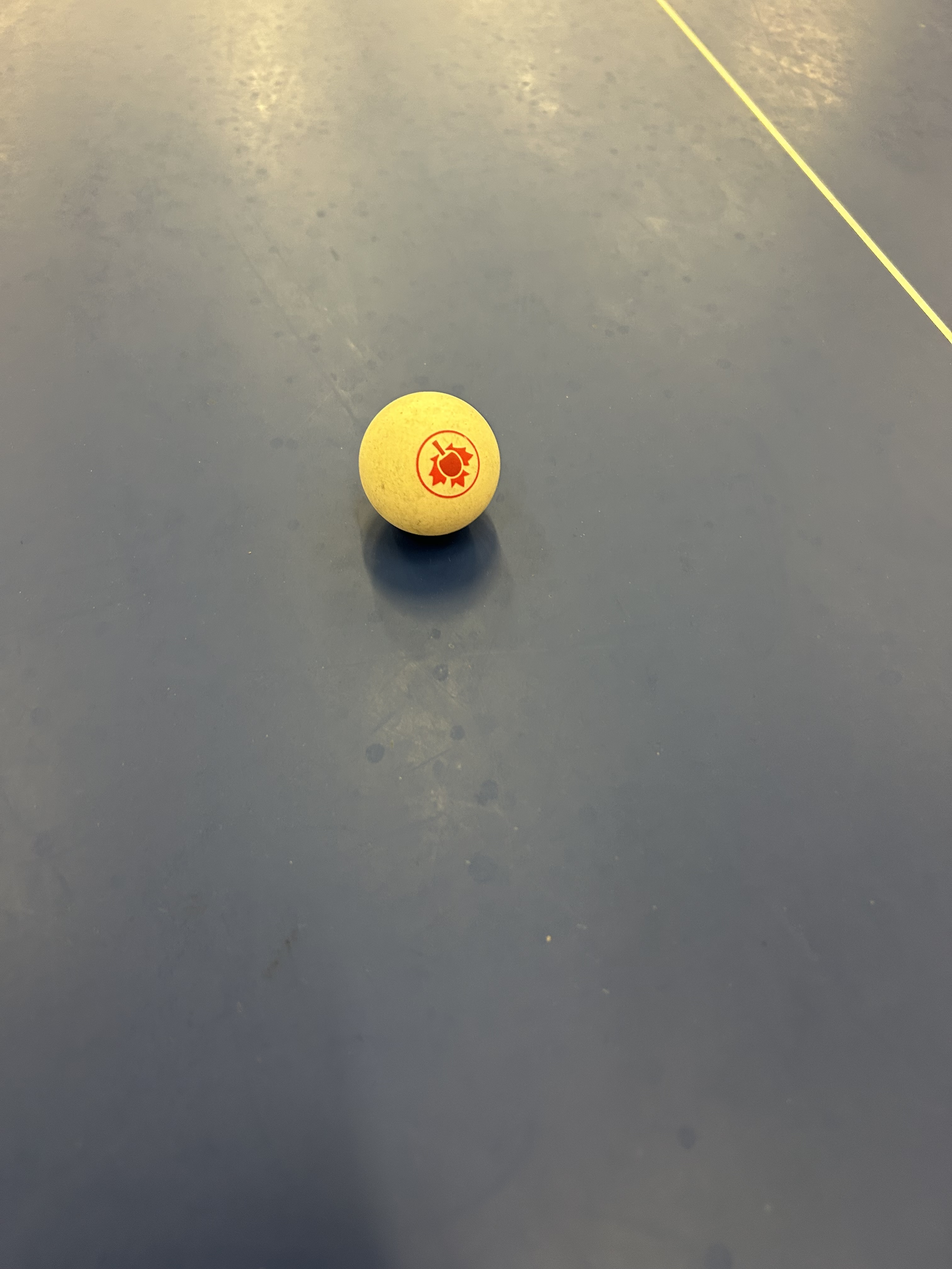Ball: (354, 384, 495, 542)
